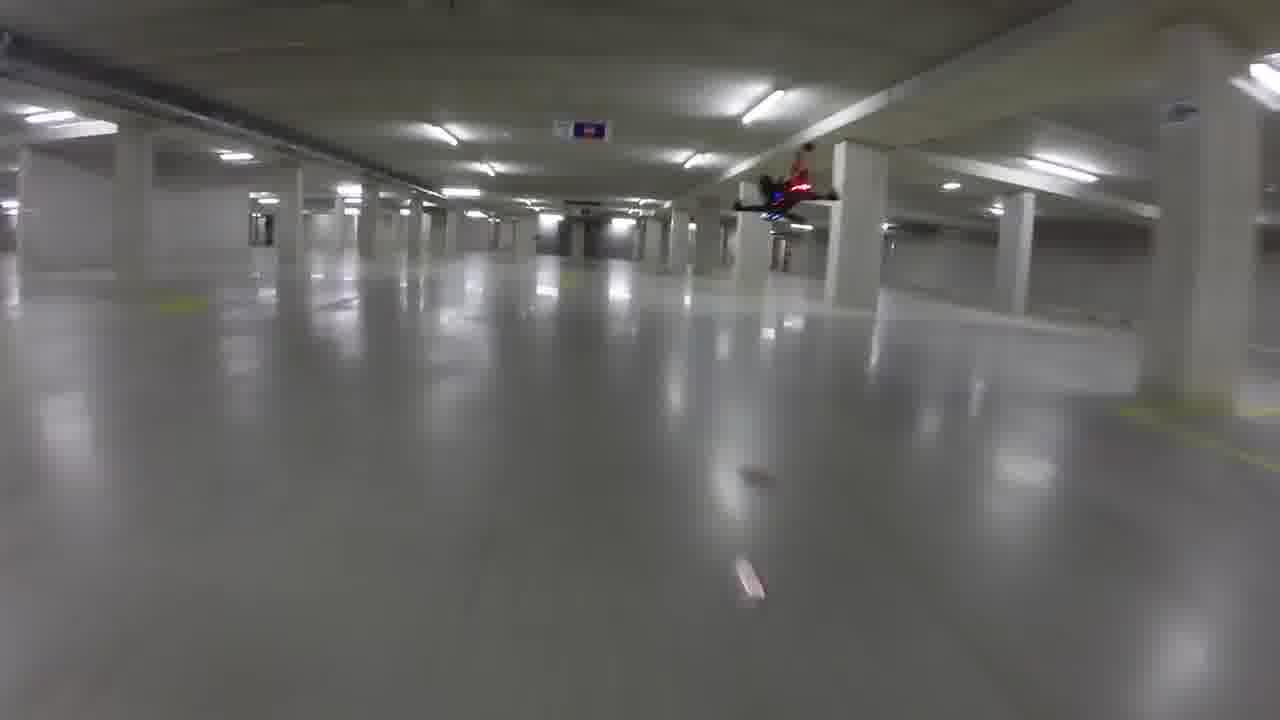drone: (719, 157, 856, 245)
